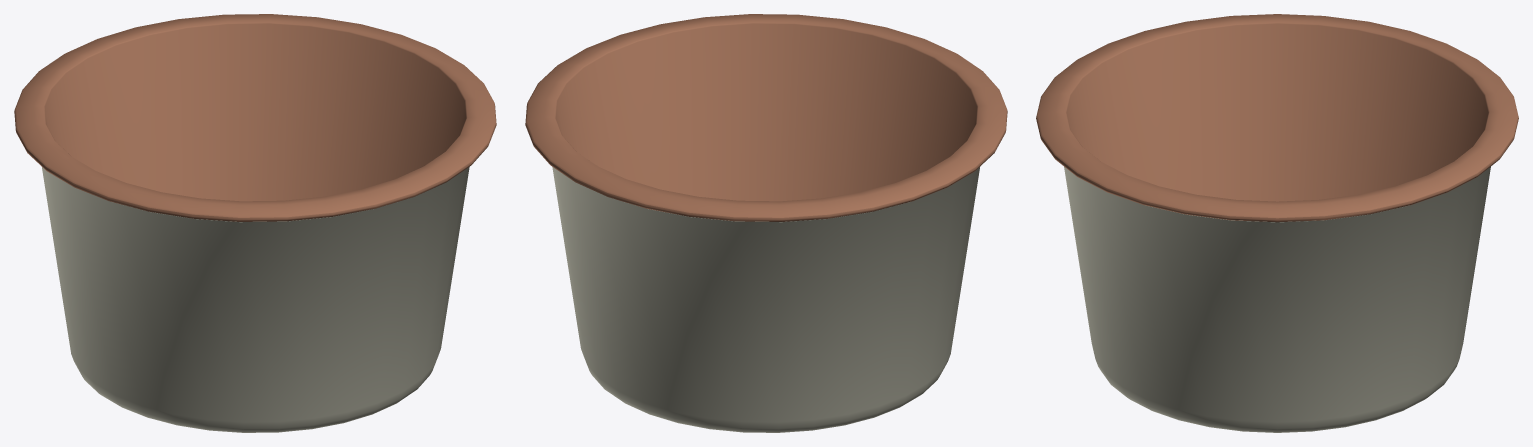
The model's file is cookerPot.fbx.
3 renders of one model, left to right at view 1: azimuth 30°, elevation 25°; view 2: azimuth 150°, elevation 25°; view 3: azimuth 270°, elevation 25°, orthographic.
Visible parts, largest first — view 1: cookerinnerpot; view 2: cookerinnerpot; view 3: cookerinnerpot.
Part boxes in pixels (bbox=[...]): cookerinnerpot: bbox=[14, 14, 496, 432]; cookerinnerpot: bbox=[525, 14, 1007, 432]; cookerinnerpot: bbox=[1036, 14, 1518, 432].
Bounding box in the file's own units: 306 × 176 × 306.
